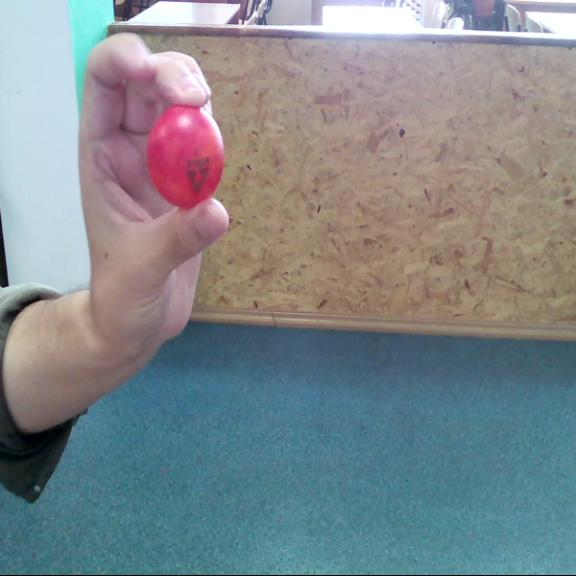ball: (147, 106, 232, 203)
